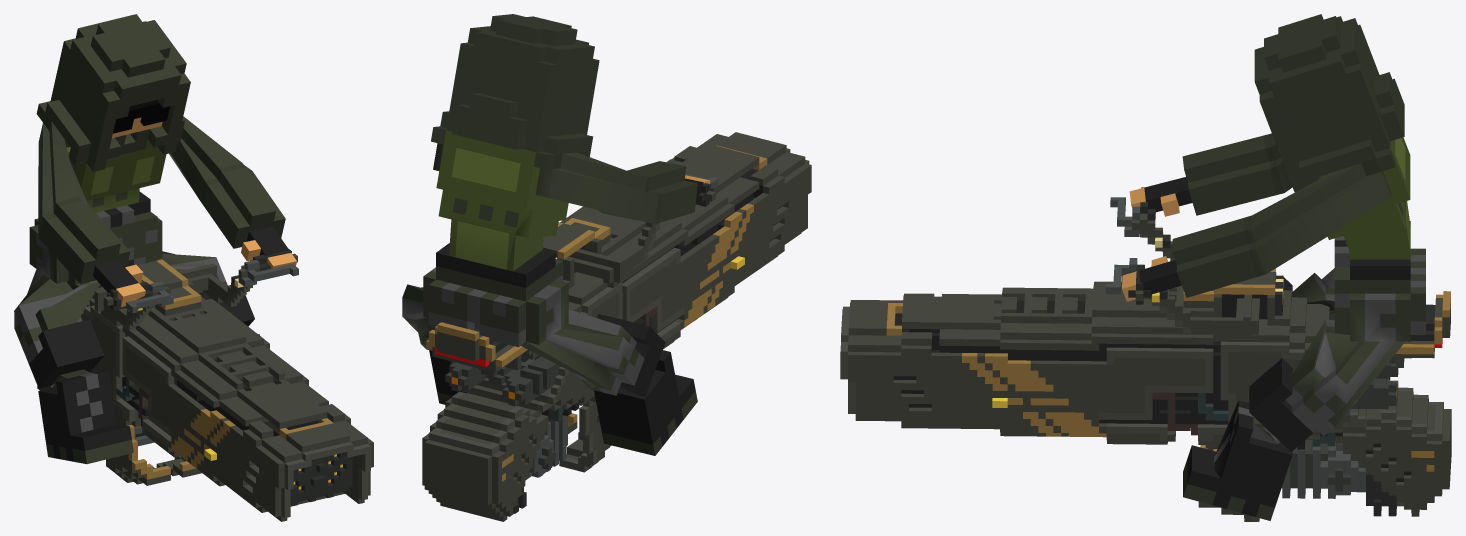
File: OnGunBike.obj
3 views of the same model, side by side, from view 1: azimuth 30°, elevation 25°; view 2: azimuth 150°, elevation 25°; view 3: azimuth 270°, elevation 25° (orthographic). The views are drawn at different scales.
Size of the model in its own units: 3.45 by 6.95 by 8.03.
Materials: 2 (2 with a texture image).
